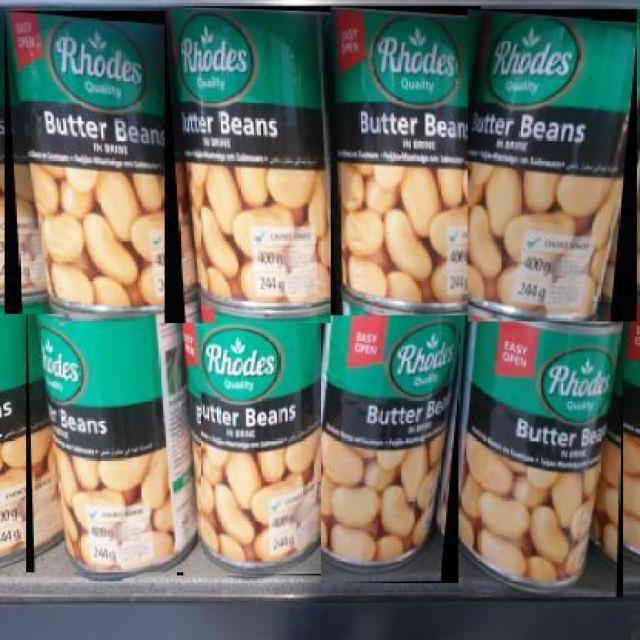Beans: (5, 11, 187, 315), (468, 9, 639, 323), (165, 6, 333, 324), (458, 293, 626, 599), (26, 286, 202, 574), (323, 6, 481, 317), (177, 279, 331, 577), (320, 282, 469, 585)
